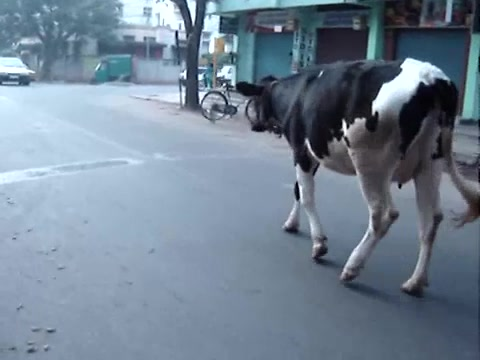cow: (234, 56, 480, 296)
